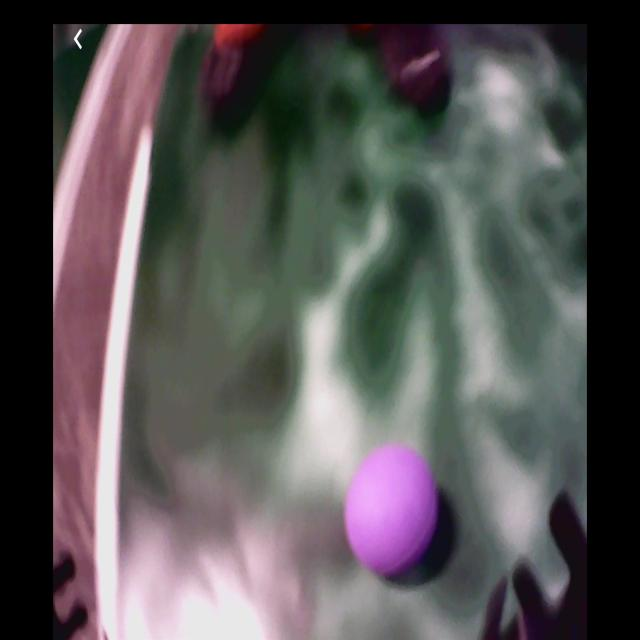ball: (342, 446, 441, 577)
